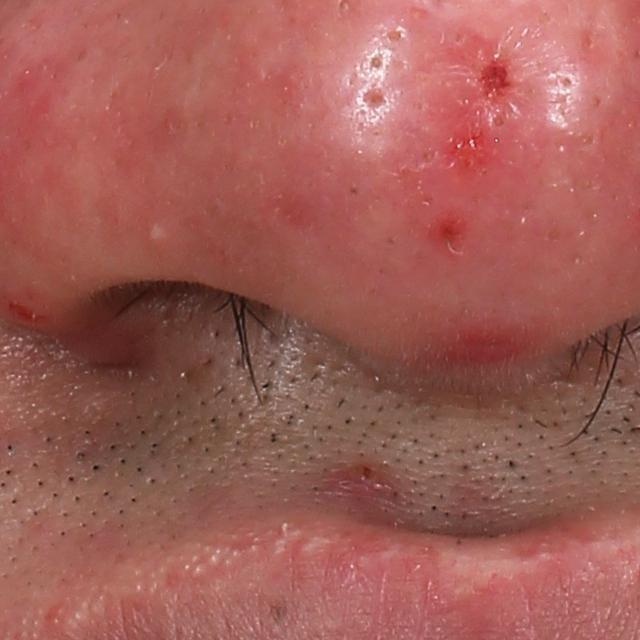comedo: (356, 49, 393, 80), (377, 24, 406, 46)
papule: (431, 317, 546, 385), (458, 49, 520, 113), (426, 213, 469, 260), (344, 459, 388, 491)
